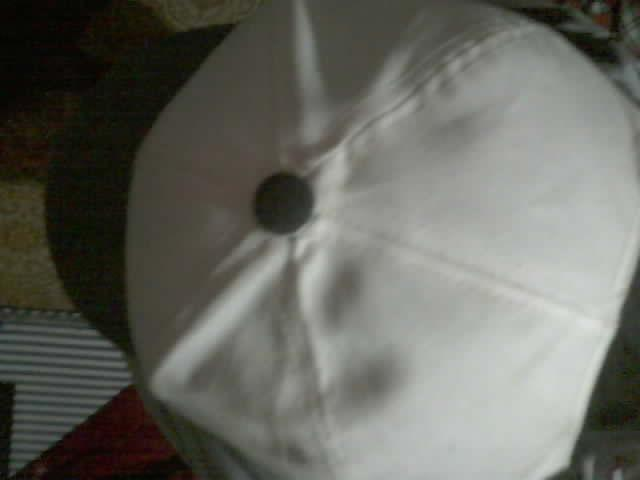cap: (123, 0, 639, 479)
